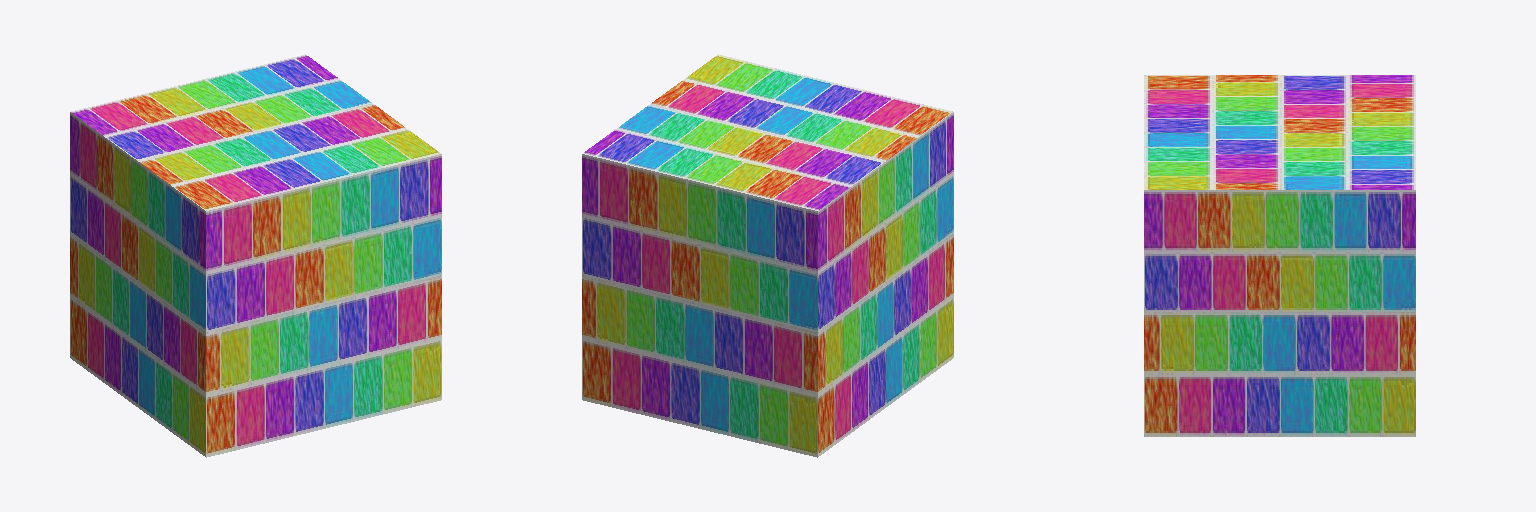
3 views of the same model, side by side, from view 1: azimuth 30°, elevation 25°; view 2: azimuth 150°, elevation 25°; view 3: azimuth 270°, elevation 25° (orthographic).
Visible parts, largest first — view 1: cube; view 2: cube; view 3: cube.
Boxes of the visible parts, box(x1,y1,x2,y2) form: cube: box(70, 54, 441, 457); cube: box(582, 54, 953, 457); cube: box(1144, 75, 1415, 436).
Size of the model in its own units: 1 by 1 by 1.
Materials: 1 (1 with a texture image).